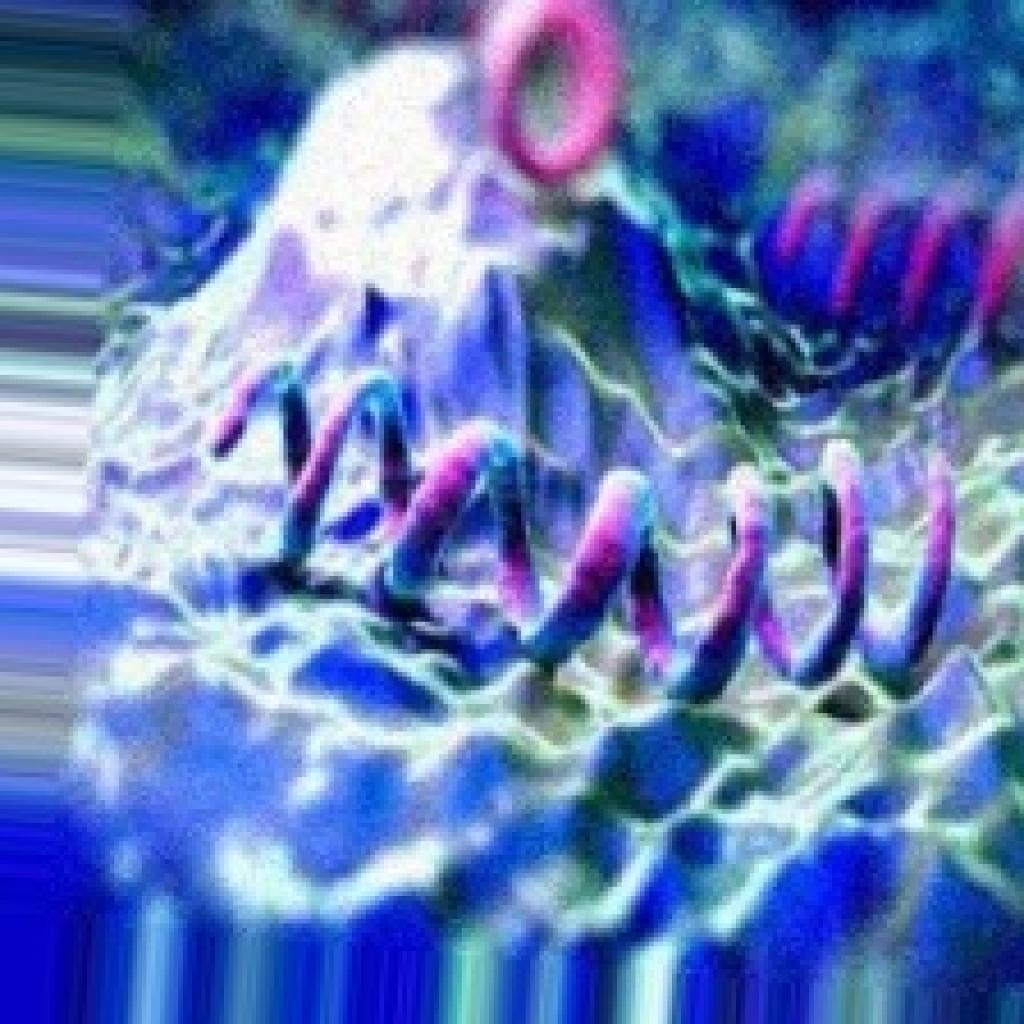Sprialbacteria: (59, 0, 1019, 1019)
